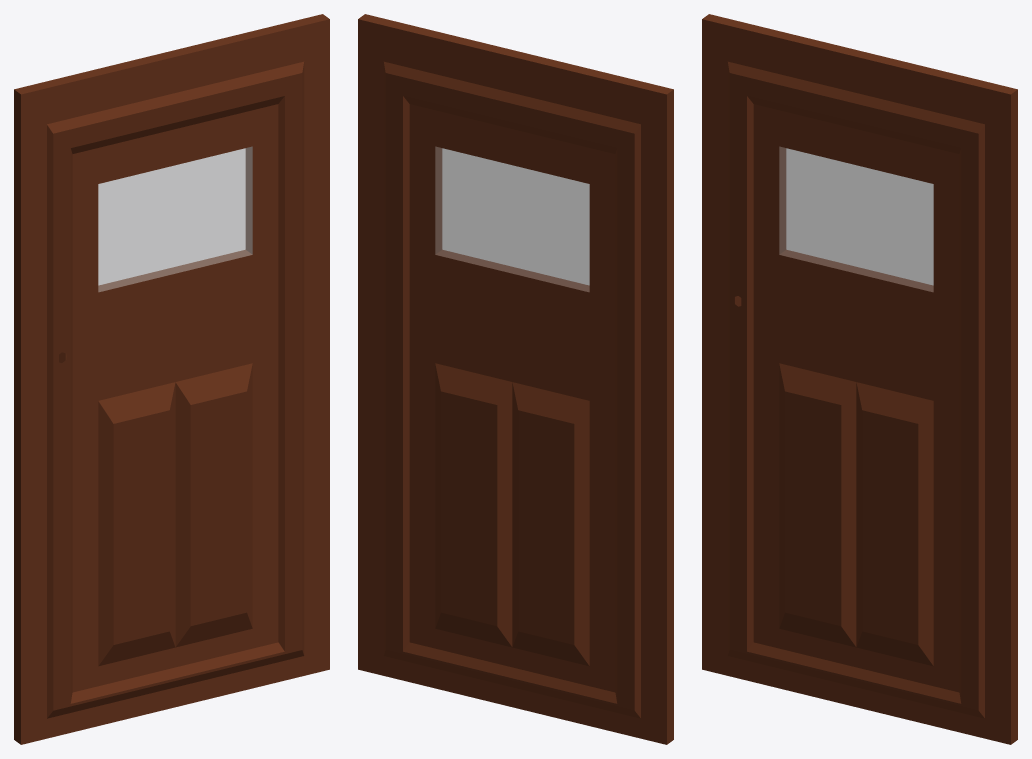
The model's file is Door.fbx.
3 views of the same model, side by side, from view 1: azimuth 30°, elevation 25°; view 2: azimuth 150°, elevation 25°; view 3: azimuth 330°, elevation 25° (orthographic).
Visible parts, largest first — view 1: Door; view 2: Door; view 3: Door.
Part boxes in pixels (x1=…): Door: x1=14, y1=14, x2=329, y2=744; Door: x1=358, y1=14, x2=673, y2=744; Door: x1=702, y1=14, x2=1017, y2=744.
Bounding box in the file's own units: 269 × 24.97 × 541.
